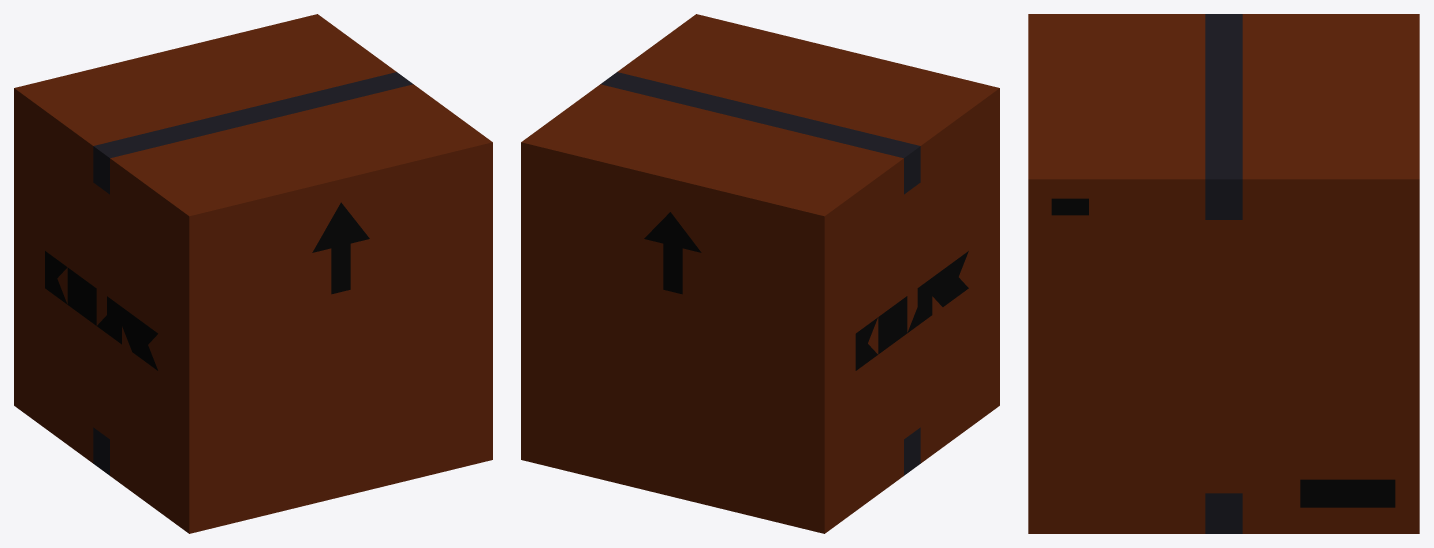
The model's file is Carboard Box.FBX.
The picture shows the model from 3 angles, left to right: view 1: azimuth 30°, elevation 25°; view 2: azimuth 150°, elevation 25°; view 3: azimuth 270°, elevation 25°; orthographic projection. The views are drawn at different scales.
Visible parts, largest first — view 1: Box; view 2: Box; view 3: Box.
Part boxes in pixels (<box>): Box: <box>14,14,492,533</box>; Box: <box>521,14,999,533</box>; Box: <box>1028,14,1419,533</box>.
Bounding box in the file's own units: 3.2 × 3.2 × 3.2.
